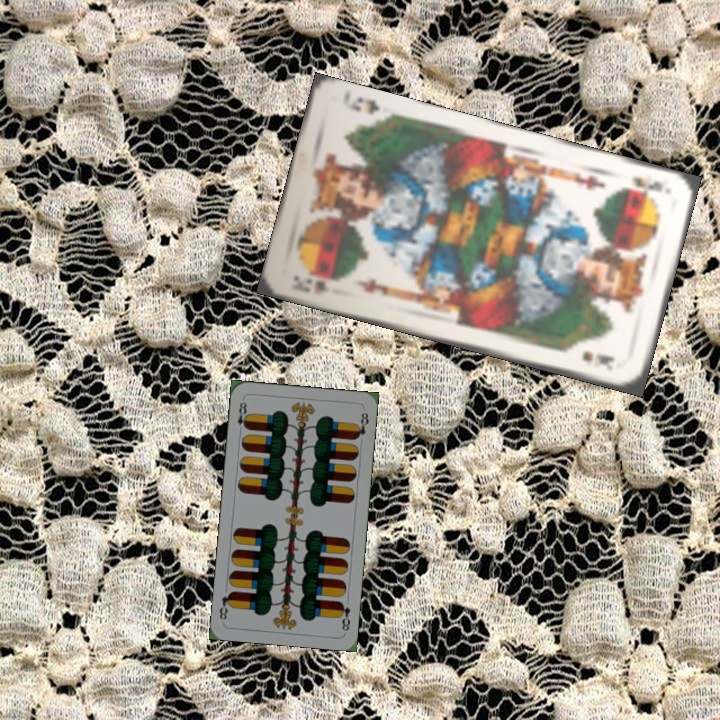E8: (233, 398, 251, 436), (335, 598, 353, 634)
SK: (618, 172, 666, 197), (286, 271, 332, 297)
